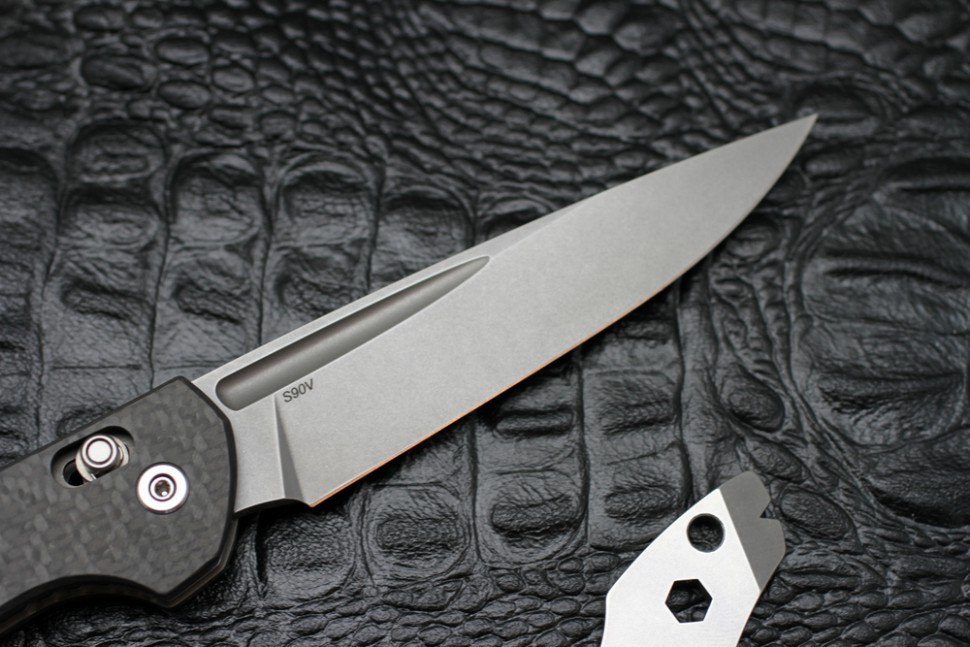knief: (37, 95, 820, 536)
